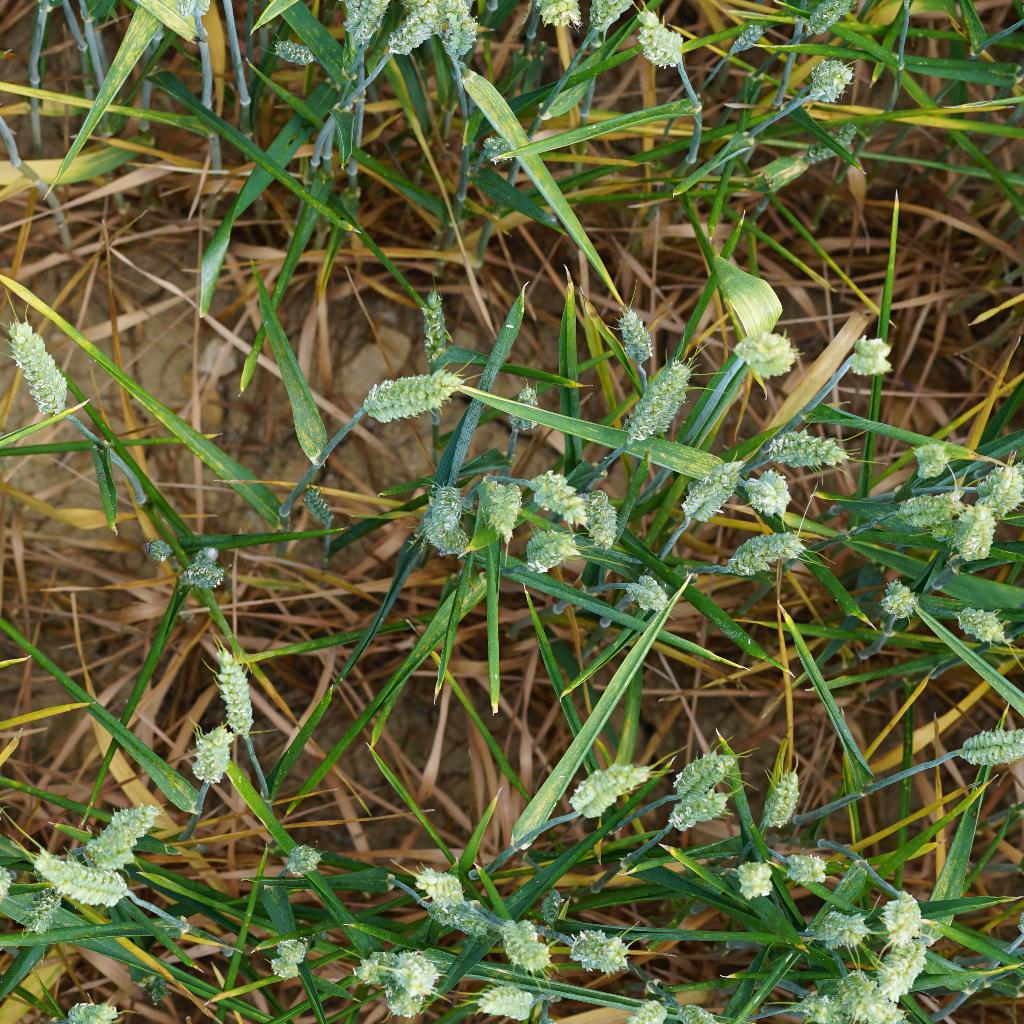0-0: (0, 306, 79, 428), (204, 647, 276, 751), (357, 348, 453, 425), (725, 524, 823, 587), (34, 844, 130, 908), (73, 795, 153, 867), (623, 357, 691, 440), (829, 326, 911, 392), (721, 316, 804, 381), (679, 453, 740, 537), (759, 414, 859, 464), (604, 296, 660, 381), (632, 4, 706, 67), (952, 710, 1024, 773), (938, 503, 1002, 571), (376, 0, 445, 60), (944, 600, 1019, 654), (576, 761, 651, 814), (496, 912, 561, 972), (668, 746, 740, 799), (418, 475, 468, 550), (792, 52, 858, 108), (407, 292, 468, 352), (873, 947, 926, 1016), (834, 968, 899, 1024), (418, 895, 494, 941), (471, 467, 523, 534), (406, 860, 468, 916), (796, 0, 873, 44), (668, 781, 729, 836), (172, 545, 232, 600), (15, 879, 70, 939), (960, 455, 1024, 506), (899, 489, 964, 539), (776, 840, 833, 897), (512, 522, 583, 567), (752, 768, 808, 825), (524, 0, 586, 49), (879, 576, 933, 632), (740, 468, 798, 520), (579, 485, 630, 544), (727, 845, 777, 905), (798, 905, 867, 948), (617, 571, 684, 615), (508, 382, 555, 444), (331, 0, 389, 49), (907, 432, 964, 481), (440, 0, 481, 66), (803, 123, 864, 167), (345, 947, 405, 991), (299, 481, 344, 538), (475, 980, 539, 1020), (571, 929, 631, 971), (265, 937, 311, 990), (137, 529, 182, 583), (593, 0, 664, 34), (265, 25, 314, 73), (542, 471, 586, 523), (379, 983, 432, 1021), (676, 990, 735, 1024), (396, 951, 442, 994), (64, 990, 120, 1024), (616, 991, 672, 1024), (722, 18, 768, 58), (796, 983, 840, 1024), (284, 841, 322, 881), (475, 129, 514, 163), (172, 0, 225, 23)
